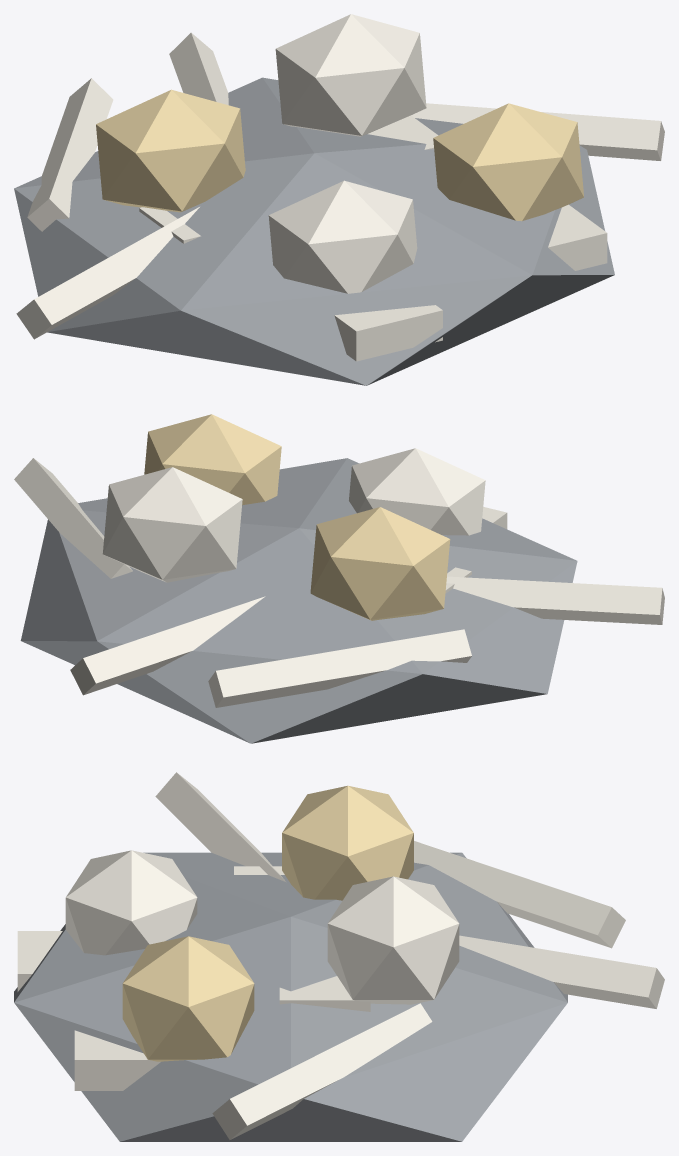
The model's file is bone_pile_skulls.glb.
3 views of the same model, one above another, from view 1: azimuth 30°, elevation 25°; view 2: azimuth 150°, elevation 25°; view 3: azimuth 270°, elevation 25° (orthographic). The views are drawn at different scales.
Parts seen in each view (by area): view 1: mound.001, skull_1, skull_0, skull_2, skull_3, long_bone_0, long_bone_3, long_bone_1, jaw_3, jaw_2, long_bone_2, jaw_1 (+1 smaller); view 2: mound.001, skull_1, skull_0, long_bone_3, skull_3, skull_2, long_bone_0, long_bone_2, long_bone_1; view 3: mound.001, skull_1, skull_2, skull_0, skull_3, long_bone_1, long_bone_3, long_bone_2, long_bone_0, jaw_2, jaw_1, jaw_3.
Boxes of the visible parts, left/top/right/bottom form: mound.001: left=14, top=77, right=614, bottom=385; skull_1: left=275, top=14, right=426, bottom=136; skull_0: left=96, top=89, right=245, bottom=212; skull_2: left=433, top=103, right=583, bottom=221; skull_3: left=268, top=180, right=417, bottom=293; long_bone_0: left=16, top=207, right=199, bottom=339; long_bone_3: left=27, top=78, right=113, bottom=231; long_bone_1: left=411, top=103, right=664, bottom=160; jaw_3: left=334, top=305, right=442, bottom=361; jaw_2: left=548, top=204, right=607, bottom=270; long_bone_2: left=169, top=32, right=228, bottom=105; jaw_1: left=368, top=115, right=438, bottom=149; mound.001: left=20, top=458, right=577, bottom=743; skull_1: left=102, top=467, right=242, bottom=582; skull_0: left=310, top=507, right=450, bottom=620; long_bone_3: left=208, top=629, right=471, bottom=707; skull_3: left=349, top=448, right=485, bottom=535; skull_2: left=144, top=414, right=281, bottom=505; long_bone_0: left=446, top=576, right=664, bottom=624; long_bone_2: left=70, top=596, right=265, bottom=695; long_bone_1: left=14, top=458, right=132, bottom=578; mound.001: left=14, top=852, right=567, bottom=1141; skull_1: left=327, top=876, right=459, bottom=1004; skull_2: left=122, top=936, right=254, bottom=1061; skull_0: left=282, top=785, right=413, bottom=900; skull_3: left=65, top=850, right=197, bottom=955; long_bone_1: left=212, top=1003, right=432, bottom=1139; long_bone_3: left=414, top=841, right=625, bottom=948; long_bone_2: left=459, top=935, right=664, bottom=1008; long_bone_0: left=155, top=772, right=286, bottom=882; jaw_2: left=74, top=1030, right=160, bottom=1090; jaw_1: left=279, top=976, right=370, bottom=1011; jaw_3: left=17, top=931, right=62, bottom=991.
Size of the model in its own units: 1.4 by 0.474 by 1.14.
